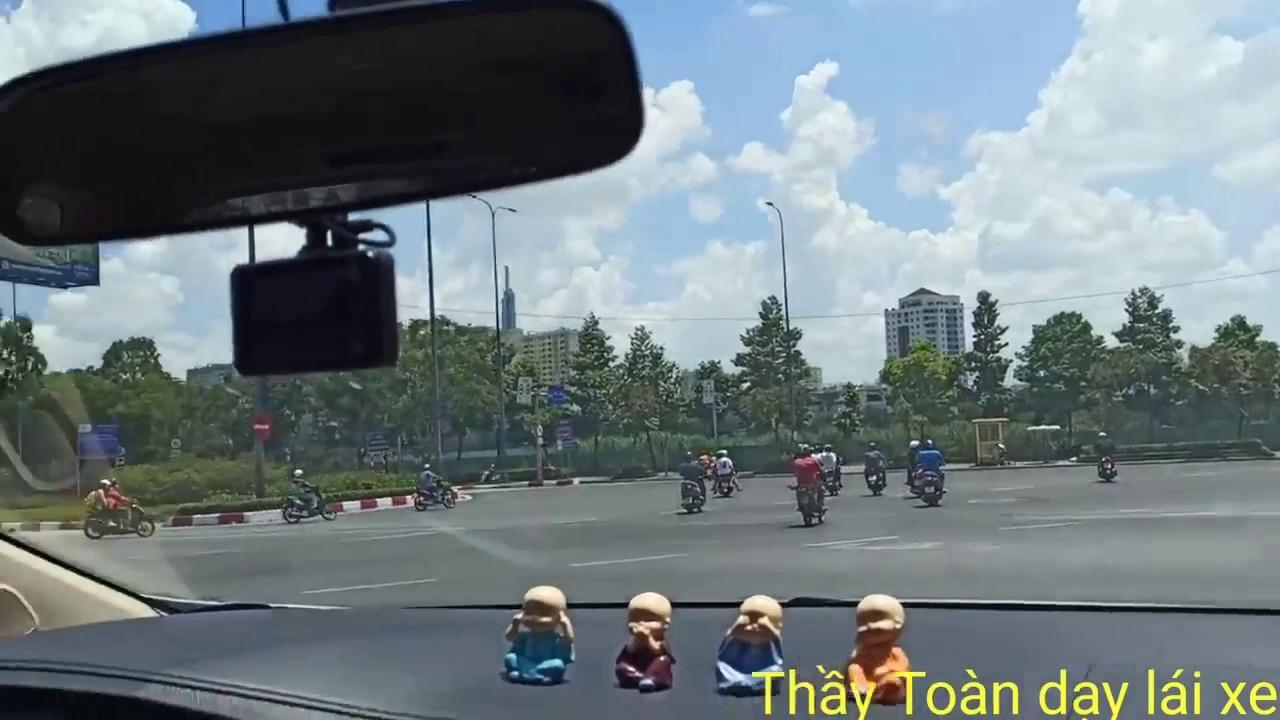Cấm cac phương tiện hoạt động trong khung giờ cố định: (516, 376, 532, 406)
Cấm đi ngược chiều: (248, 410, 276, 441)
